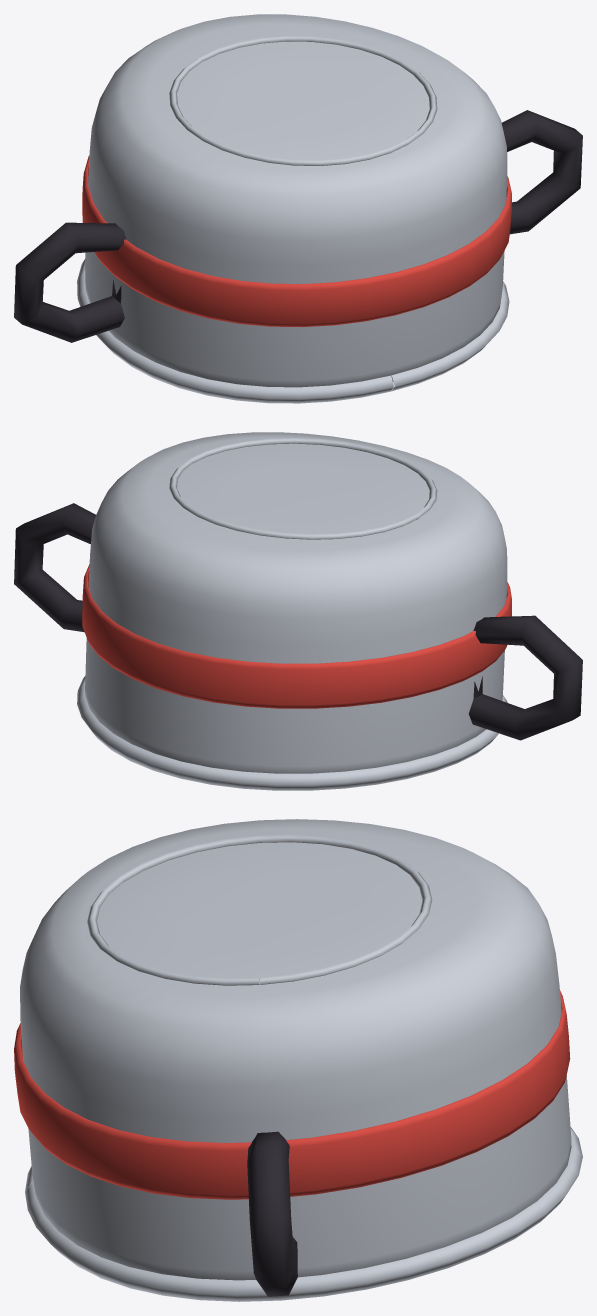
File: hat_pot.glb
3 renders of one model, top to bottom at view 1: azimuth 30°, elevation 25°; view 2: azimuth 150°, elevation 25°; view 3: azimuth 270°, elevation 25°, orthographic. The views are drawn at different scales.
Parts seen in each view (by area): view 1: HatPot; view 2: HatPot; view 3: HatPot.
Part boxes in pixels (left/top/right/bottom): HatPot: left=14, top=14, right=582, bottom=403; HatPot: left=14, top=432, right=582, bottom=790; HatPot: left=14, top=819, right=582, bottom=1301.
Bounding box in the file's own units: 0.8408 × 0.3419 × 0.5755.
